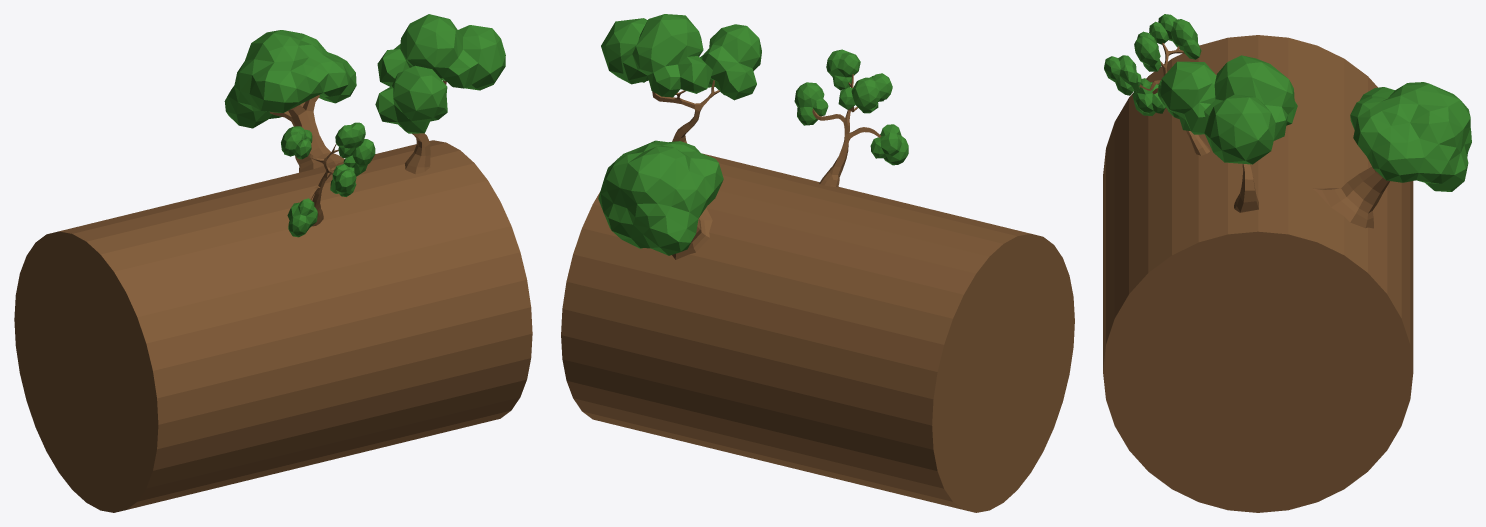
3 renders of one model, left to right at view 1: azimuth 30°, elevation 25°; view 2: azimuth 150°, elevation 25°; view 3: azimuth 270°, elevation 25°, orthographic. The views are drawn at different scales.
Visible parts, largest first — view 1: LowPoly Tree 02; view 2: LowPoly Tree 02; view 3: LowPoly Tree 02.
Boxes of the visible parts, box(x1,y1,x2,y2) form: LowPoly Tree 02: box(14, 14, 532, 512); LowPoly Tree 02: box(561, 14, 1074, 512); LowPoly Tree 02: box(1103, 14, 1471, 512).
Size of the model in its own units: 3.27 by 3.09 by 2.38.
